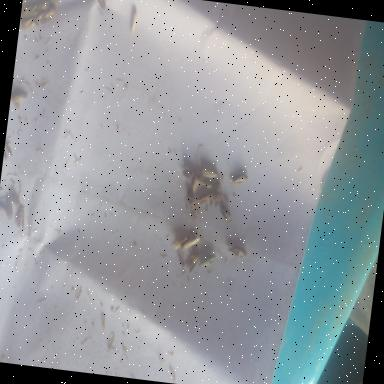pbw: (0, 189, 15, 222), (18, 11, 42, 31), (39, 5, 59, 25), (184, 184, 198, 210), (180, 234, 200, 252), (225, 243, 248, 258), (21, 0, 39, 19), (184, 246, 199, 268), (211, 179, 223, 206), (198, 252, 216, 270), (31, 0, 50, 17), (218, 204, 234, 224), (196, 188, 213, 206), (189, 250, 201, 274), (14, 204, 26, 228), (8, 185, 21, 207), (198, 166, 220, 178), (172, 234, 187, 251), (230, 171, 247, 185), (11, 89, 28, 103), (180, 165, 196, 179), (192, 170, 200, 194), (130, 9, 138, 33), (175, 253, 187, 269), (198, 176, 214, 188), (91, 0, 108, 11), (35, 0, 51, 10), (20, 0, 33, 12)
